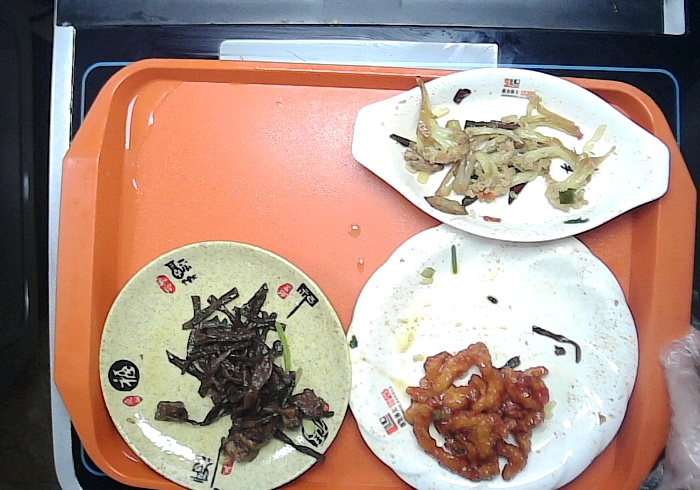NLDX-Bai_Zhe_Yuan_Pan: (341, 216, 640, 490)
NLDX-Fu_Zi_Yuan_Pan: (92, 235, 354, 489)
NLDX-Yu_Pan: (344, 62, 674, 250)
